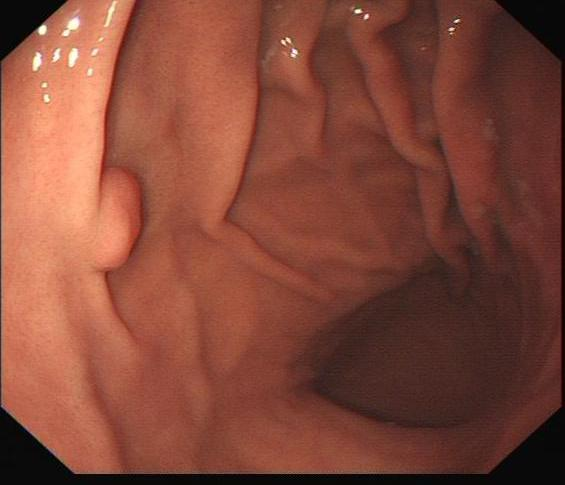Polyp: (69, 146, 156, 277)
